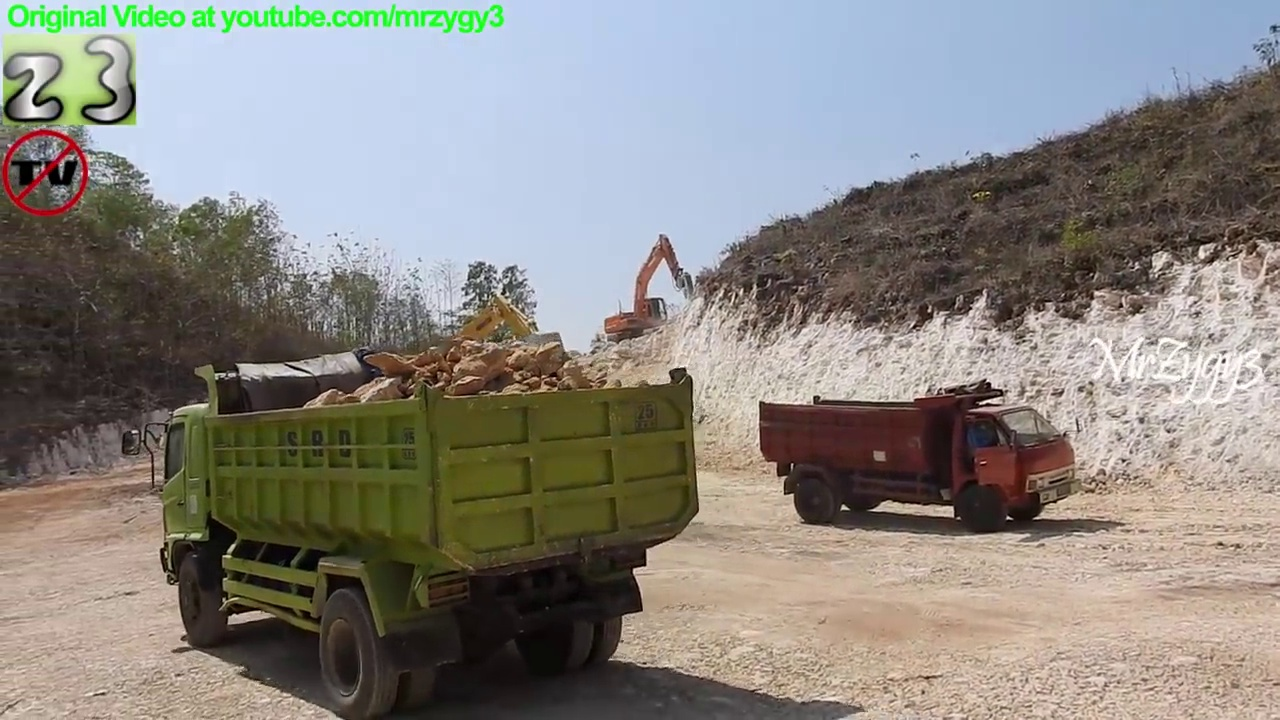excavator: (396, 288, 567, 450), (598, 228, 702, 354)
truck: (116, 344, 709, 720), (748, 374, 1086, 538)
